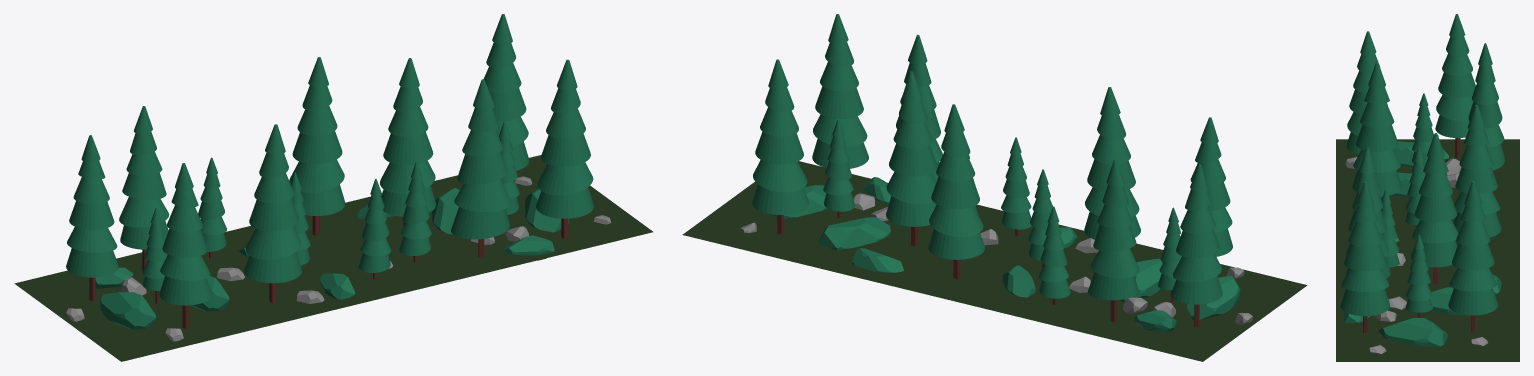
The model's file is Tile3.fbx.
The picture shows the model from 3 angles, left to right: view 1: azimuth 30°, elevation 25°; view 2: azimuth 150°, elevation 25°; view 3: azimuth 270°, elevation 25°; orthographic projection. The views are drawn at different scales.
Parts seen in each view (by area): view 1: Tile3; view 2: Tile3; view 3: Tile3.
Boxes of the visible parts, left/top/right/bottom form: Tile3: left=14, top=14, right=653, bottom=361; Tile3: left=682, top=14, right=1307, bottom=361; Tile3: left=1336, top=14, right=1519, bottom=361.
Size of the model in its own units: 12038 by 4209 by 4198.
